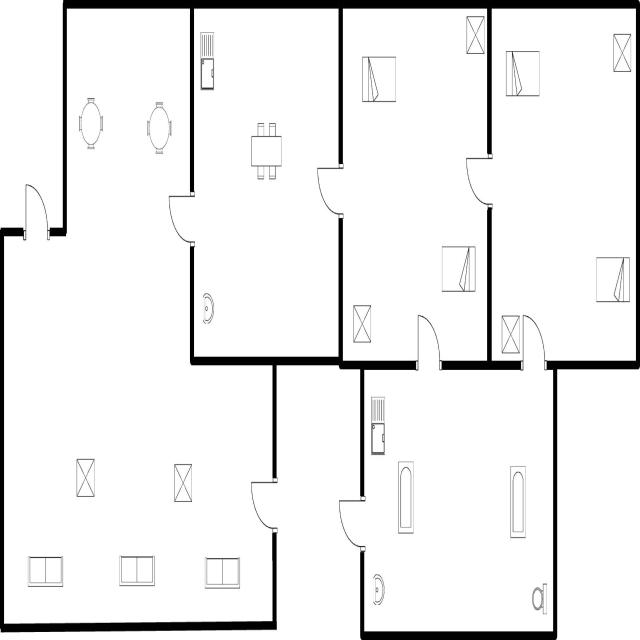bed: (359, 49, 400, 113), (592, 246, 632, 310), (502, 44, 542, 106), (438, 238, 478, 298)
coffee_table: (172, 455, 197, 510), (72, 451, 98, 502), (349, 299, 374, 352), (498, 307, 522, 359), (463, 10, 487, 61), (610, 29, 634, 80)
dining_table: (247, 114, 285, 184)
large_sink: (528, 575, 550, 623)
large_sofa: (115, 544, 159, 594), (201, 548, 244, 597), (24, 550, 68, 596)
round_table: (140, 93, 176, 166), (74, 90, 108, 158)
sink: (367, 391, 388, 463), (198, 23, 218, 96)
small_sink: (368, 565, 386, 612), (200, 286, 216, 333)
tub: (507, 460, 530, 546), (395, 453, 416, 540)
